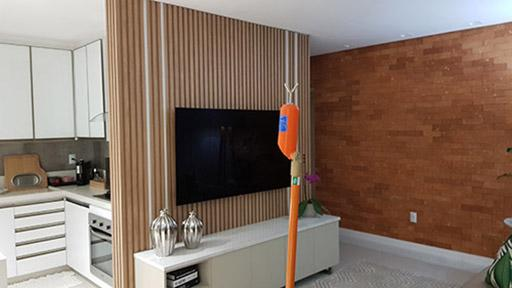Detector_Tensao_Contato: (278, 82, 299, 162)
Vara_Manobra: (284, 153, 303, 288)
